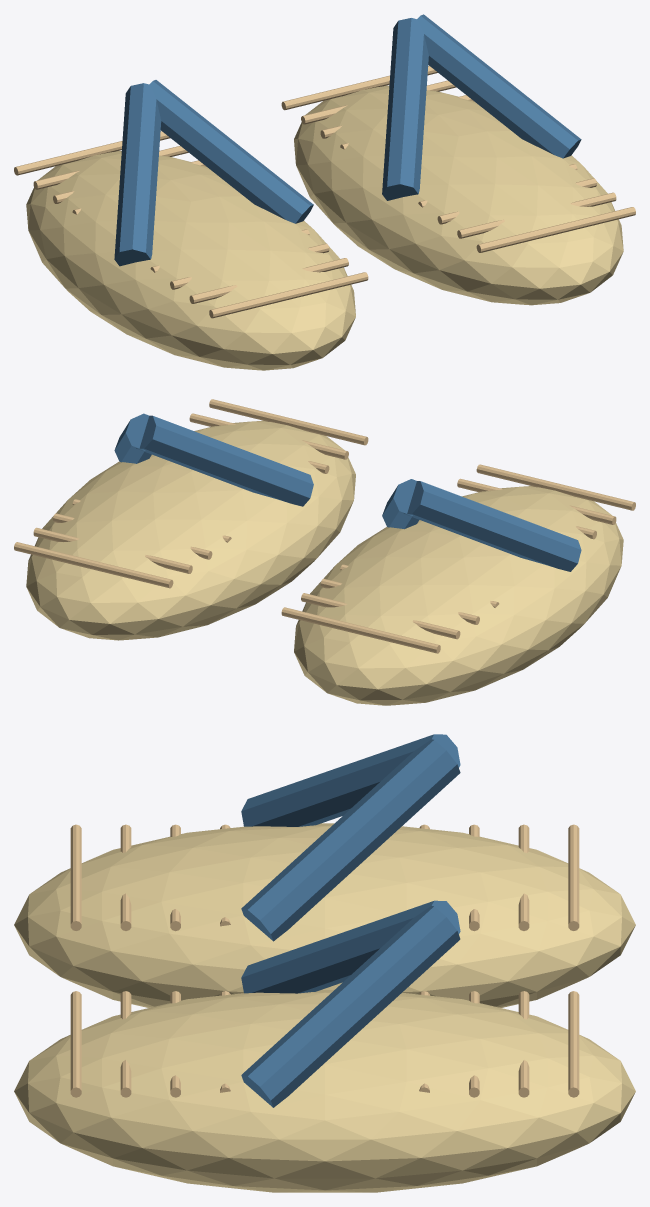
Rendered from wear_zori.glb.
The picture shows the model from 3 angles, top to bottom: view 1: azimuth 30°, elevation 25°; view 2: azimuth 150°, elevation 25°; view 3: azimuth 270°, elevation 25°; orthographic projection. The views are drawn at different scales.
Parts seen in each view (by area): view 1: Woven zori sole.001, Woven zori sole, Soft zori hanao_01.001, Soft zori hanao_01, Soft zori hanao_00, Soft zori hanao_00.001, Weave crossline, Weave crossline.011, Weave crossline.010, Weave crossline.021, Weave crossline.012, Weave crossline.001 (+2 smaller); view 2: Woven zori sole, Woven zori sole.001, Soft zori hanao_00, Soft zori hanao_00.001, Weave crossline.010, Weave crossline.021, Weave crossline, Weave crossline.011, Soft zori hanao_01, Soft zori hanao_01.001, Weave crossline.009, Weave crossline.020 (+2 smaller); view 3: Woven zori sole.001, Woven zori sole, Soft zori hanao_01.001, Soft zori hanao_01, Soft zori hanao_00, Soft zori hanao_00.001, Weave crossline.011, Weave crossline.021, Weave crossline, Weave crossline.010, Weave crossline.012, Weave crossline.020 (+2 smaller).
Part boxes in pixels (left/top/right/bottom): Woven zori sole.001: left=294, top=85, right=623, bottom=305; Woven zori sole: left=26, top=151, right=355, bottom=370; Soft zori hanao_01.001: left=417, top=14, right=581, bottom=158; Soft zori hanao_01: left=149, top=80, right=313, bottom=223; Soft zori hanao_00: left=114, top=83, right=161, bottom=266; Soft zori hanao_00.001: left=382, top=18, right=428, bottom=200; Weave crossline: left=209, top=272, right=368, bottom=318; Weave crossline.011: left=476, top=207, right=635, bottom=252; Weave crossline.010: left=14, top=131, right=170, bottom=175; Weave crossline.021: left=281, top=66, right=437, bottom=110; Weave crossline.012: left=457, top=192, right=616, bottom=238; Weave crossline.001: left=189, top=258, right=348, bottom=303; Woven zori sole: left=294, top=486, right=623, bottom=705; Woven zori sole.001: left=26, top=420, right=355, bottom=640; Soft zori hanao_00: left=403, top=481, right=581, bottom=571; Soft zori hanao_00.001: left=136, top=415, right=313, bottom=506; Weave crossline.010: left=281, top=607, right=440, bottom=653; Weave crossline.021: left=14, top=542, right=173, bottom=588; Weave crossline: left=476, top=464, right=635, bottom=510; Weave crossline.011: left=209, top=399, right=368, bottom=445; Soft zori hanao_01: left=382, top=479, right=419, bottom=529; Soft zori hanao_01.001: left=114, top=413, right=151, bottom=463; Weave crossline.009: left=301, top=593, right=460, bottom=639; Weave crossline.020: left=33, top=527, right=192, bottom=573; Woven zori sole.001: left=14, top=990, right=635, bottom=1192; Woven zori sole: left=14, top=823, right=635, bottom=1007; Soft zori hanao_01.001: left=241, top=906, right=460, bottom=1107; Soft zori hanao_01: left=241, top=739, right=460, bottom=941; Soft zori hanao_00: left=241, top=734, right=460, bottom=826; Soft zori hanao_00.001: left=241, top=900, right=460, bottom=993; Weave crossline.011: left=70, top=991, right=81, bottom=1097; Weave crossline.021: left=568, top=991, right=579, bottom=1097; Weave crossline: left=70, top=824, right=81, bottom=930; Weave crossline.010: left=568, top=824, right=579, bottom=930; Weave crossline.012: left=120, top=991, right=131, bottom=1097; Weave crossline.020: left=518, top=991, right=529, bottom=1097.
Size of the model in its own units: 1.95 by 0.7798 by 1.67.
